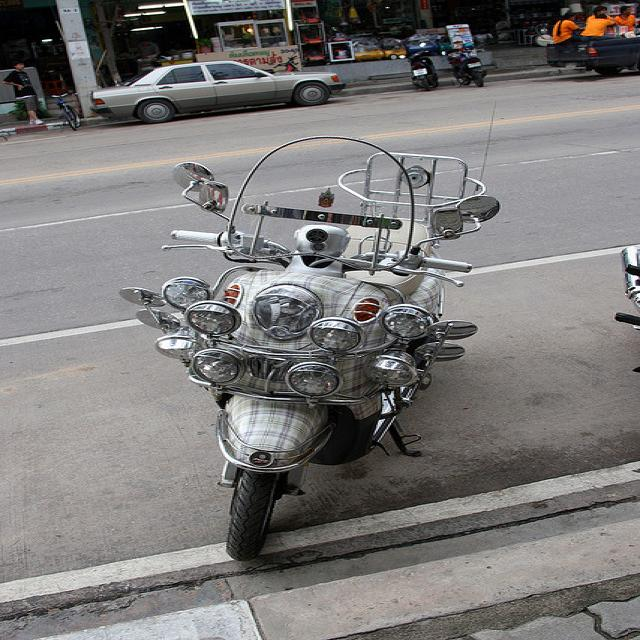motor: (121, 133, 508, 560), (613, 244, 640, 376), (439, 47, 487, 89), (409, 50, 439, 92)
